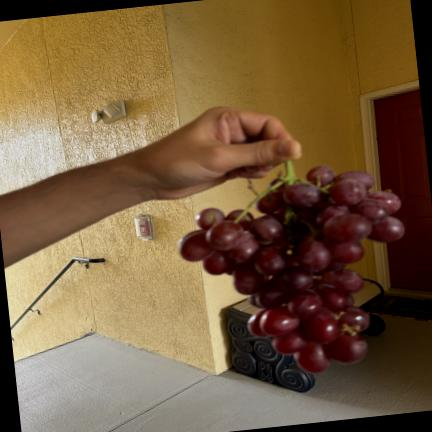grape_cluster: (179, 162, 405, 373)
